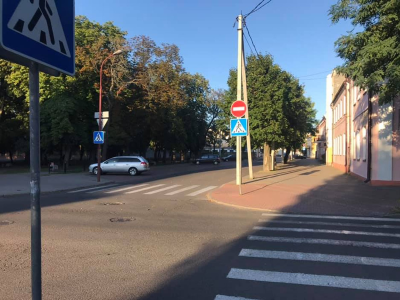crosswalk: (1, 1, 74, 67), (230, 120, 247, 137), (93, 132, 104, 143)
